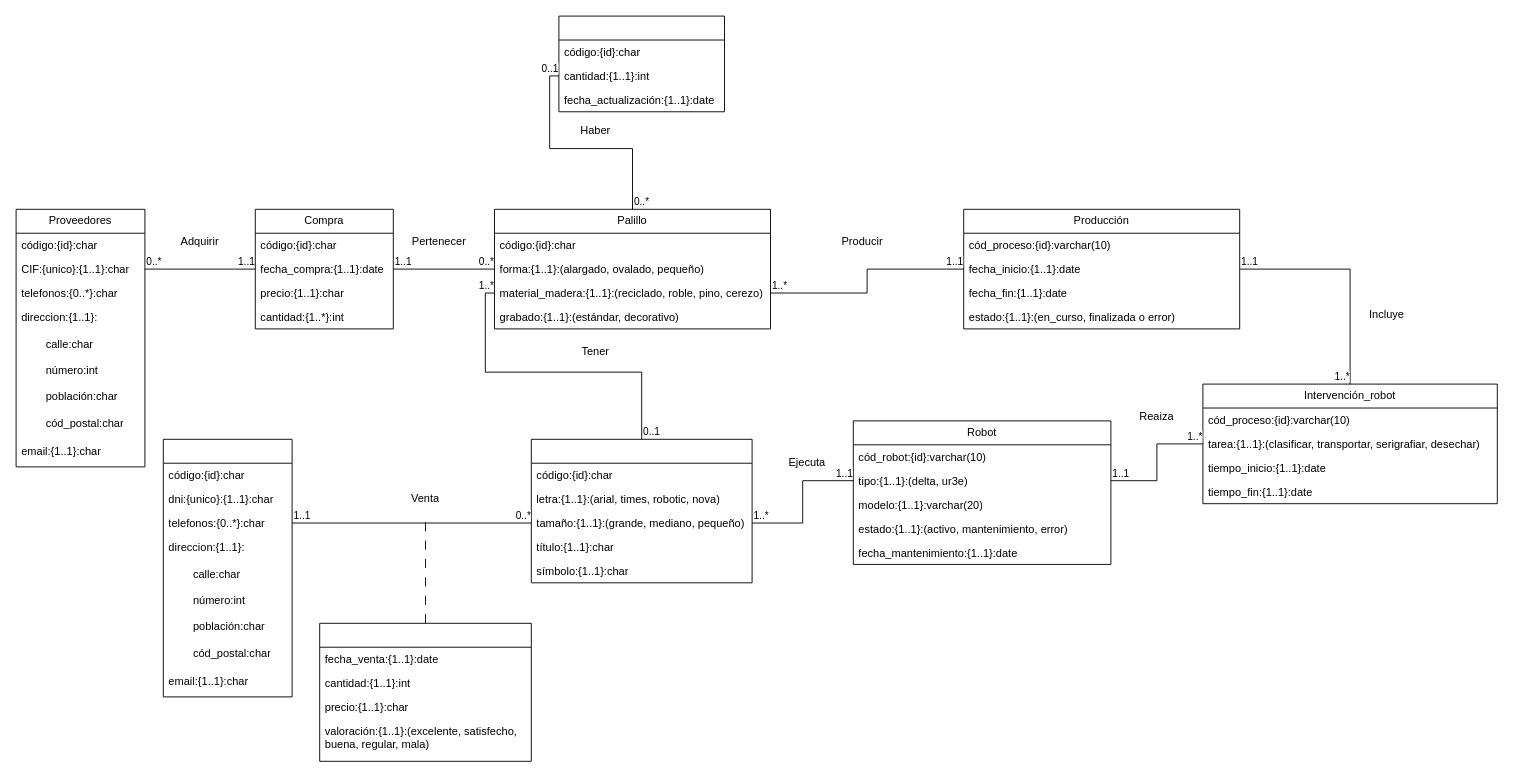
Image size: 1513x780. Some labels were removed from this diagram. The shapes that lost their labels are listed below. From the top down, each one's box as (x1, y1, x2, y2) in pixels, then its label:
(558, 15, 724, 112): Stock
(530, 438, 752, 583): Serigrafiado
(162, 438, 292, 697): Clientes
